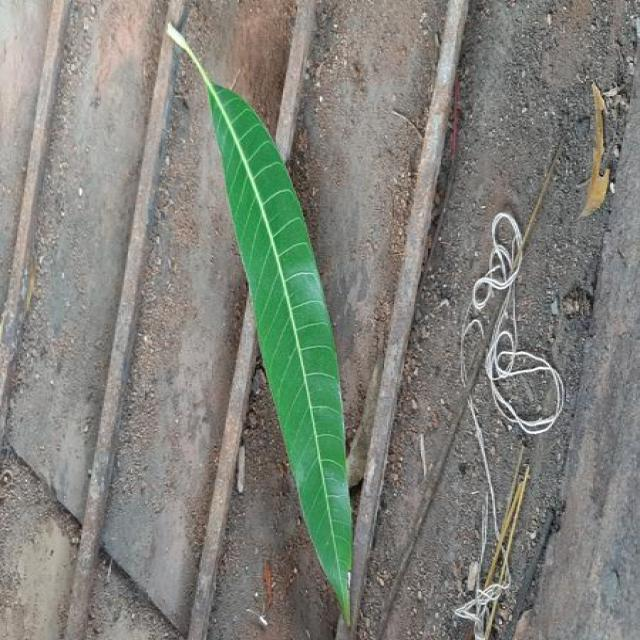mango: (168, 30, 352, 617)
